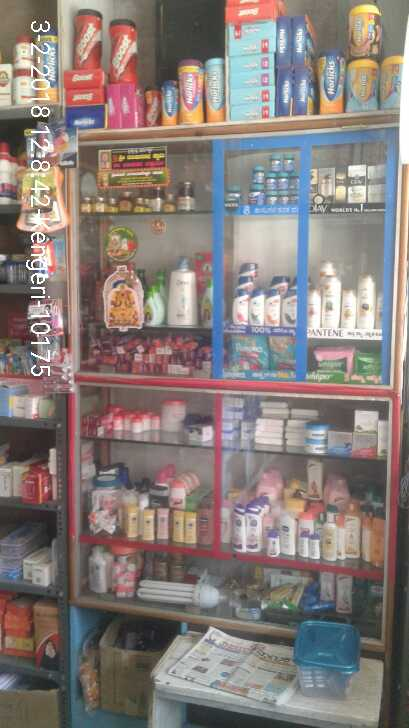beauty: (318, 273, 339, 330), (357, 275, 376, 328), (346, 165, 367, 207), (365, 162, 386, 203), (337, 287, 354, 330), (249, 286, 266, 328), (230, 289, 247, 326), (281, 288, 296, 327), (266, 286, 279, 330)
pharmacy: (227, 331, 269, 373), (311, 340, 352, 380), (269, 330, 292, 373), (354, 348, 382, 374), (266, 172, 297, 189), (280, 148, 299, 173), (268, 188, 296, 204), (266, 149, 283, 174), (246, 185, 266, 205), (251, 162, 266, 182), (225, 187, 242, 201)
